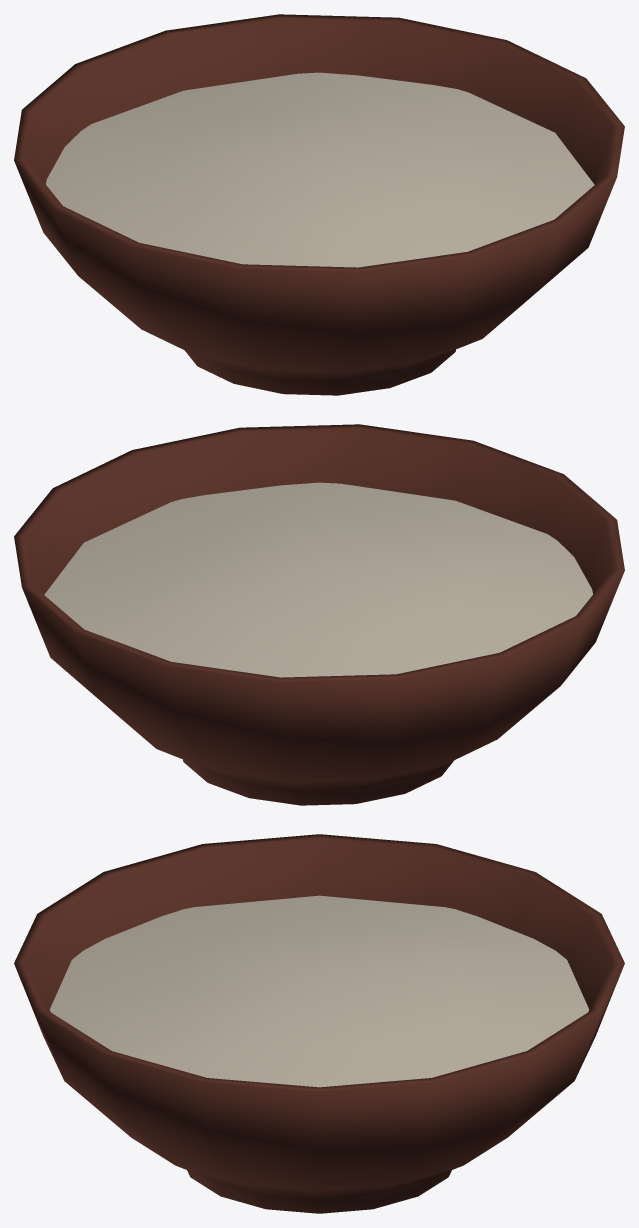
File: Bowl 1 - Full.fbx
3 views of the same model, one above another, from view 1: azimuth 30°, elevation 25°; view 2: azimuth 150°, elevation 25°; view 3: azimuth 270°, elevation 25° (orthographic).
Visible parts, largest first — view 1: Bowl 1 - Full; view 2: Bowl 1 - Full; view 3: Bowl 1 - Full.
Boxes of the visible parts, bbox=[...] form: Bowl 1 - Full: bbox=[14, 14, 624, 395]; Bowl 1 - Full: bbox=[14, 424, 624, 805]; Bowl 1 - Full: bbox=[14, 834, 624, 1213].
Bounding box in the file's own units: 0.2344 × 0.081 × 0.2344.
